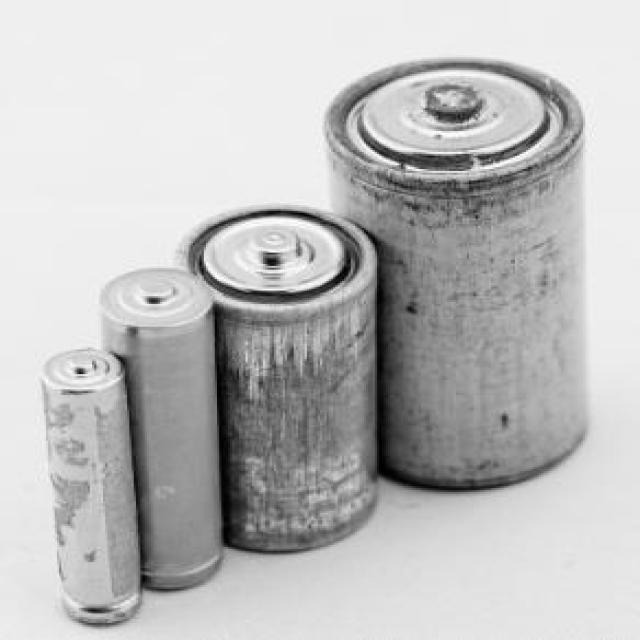-Hazardous waste - battery-: (322, 58, 590, 489), (174, 202, 378, 556), (97, 265, 222, 594), (36, 343, 137, 633)
